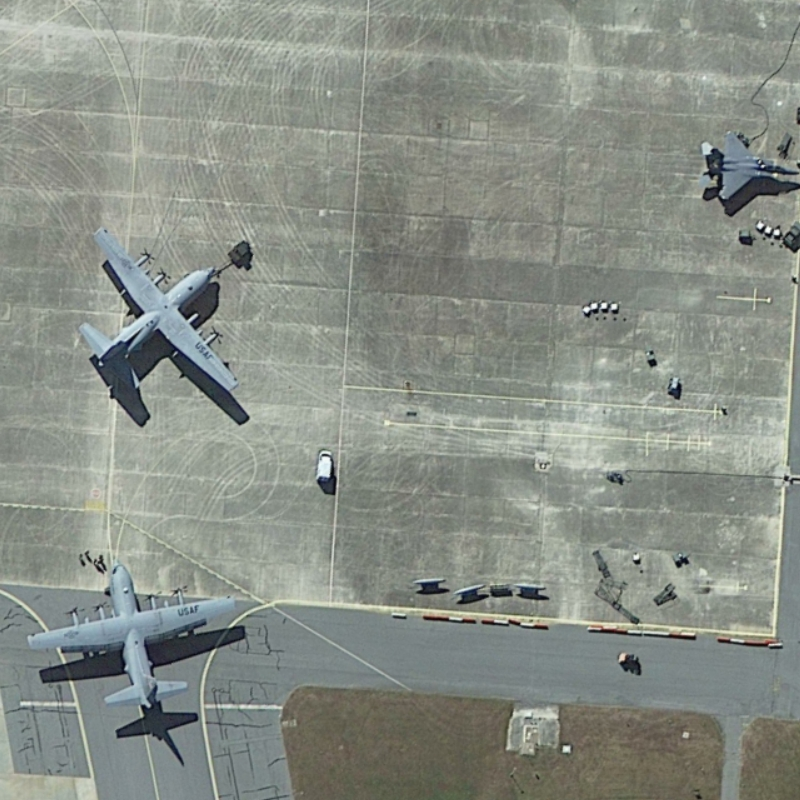A13: (697, 124, 800, 204)
A2: (21, 555, 243, 718), (76, 221, 249, 410)
